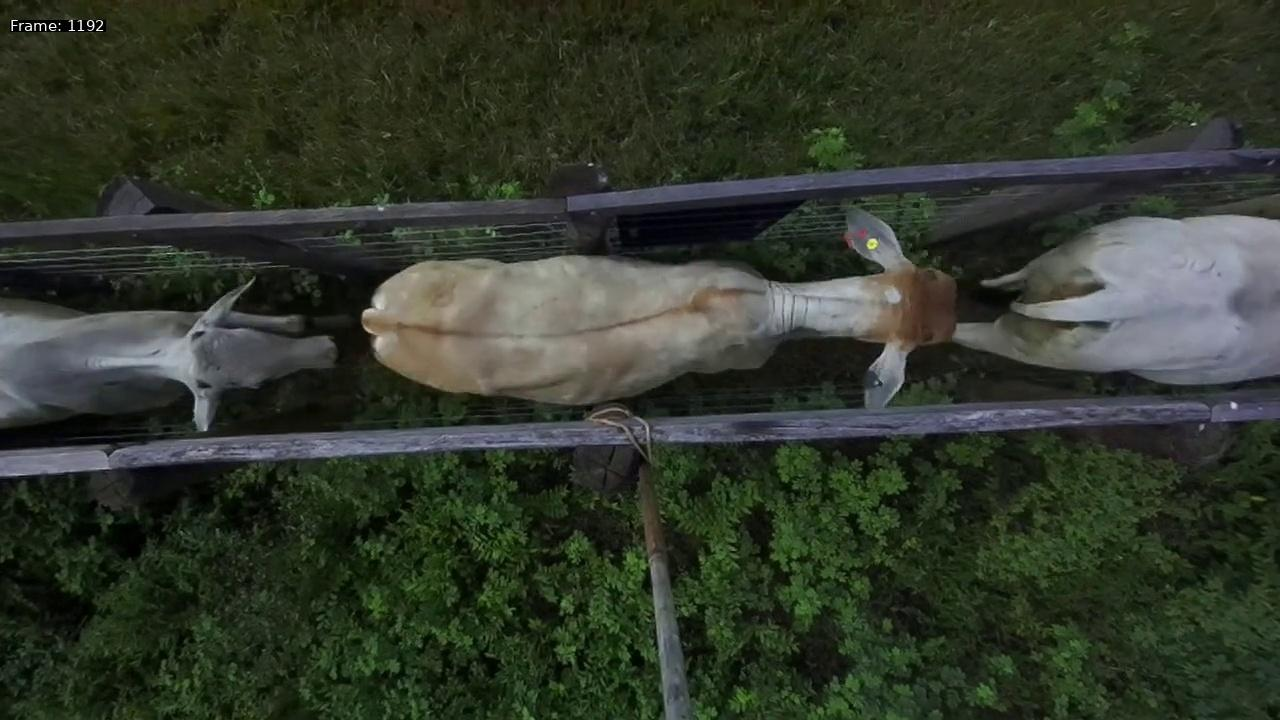cattle: (350, 189, 967, 421)
